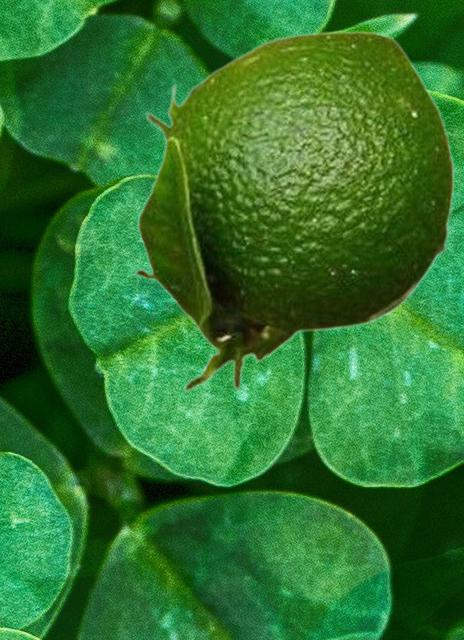dalandan: (132, 30, 454, 392)
